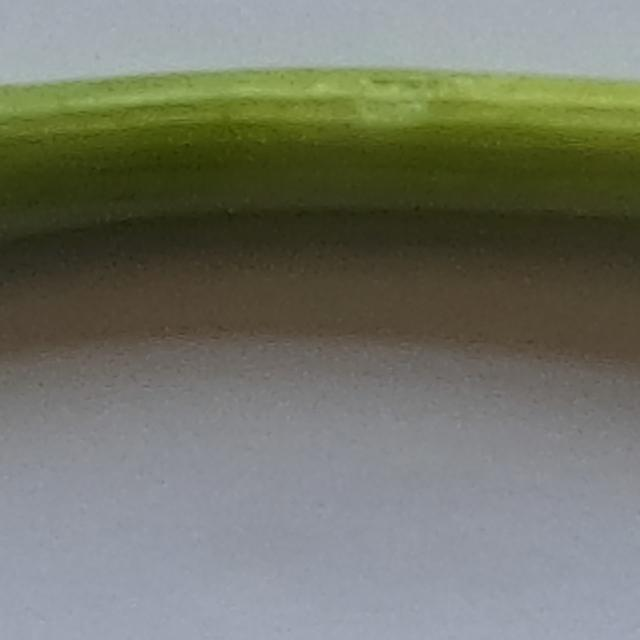green_onion: (0, 67, 640, 262)
